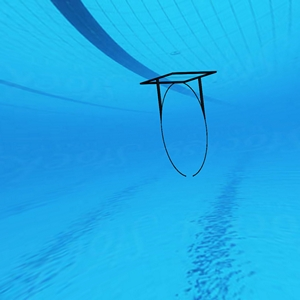circle: (138, 69, 217, 182)
